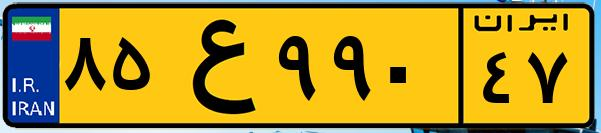0: (385, 28, 445, 110)
4: (475, 38, 525, 113)
5: (110, 28, 158, 98)
7: (525, 38, 570, 115)
8: (57, 26, 110, 100)
9: (270, 28, 330, 110), (330, 28, 385, 110)
ع: (158, 12, 270, 120)
